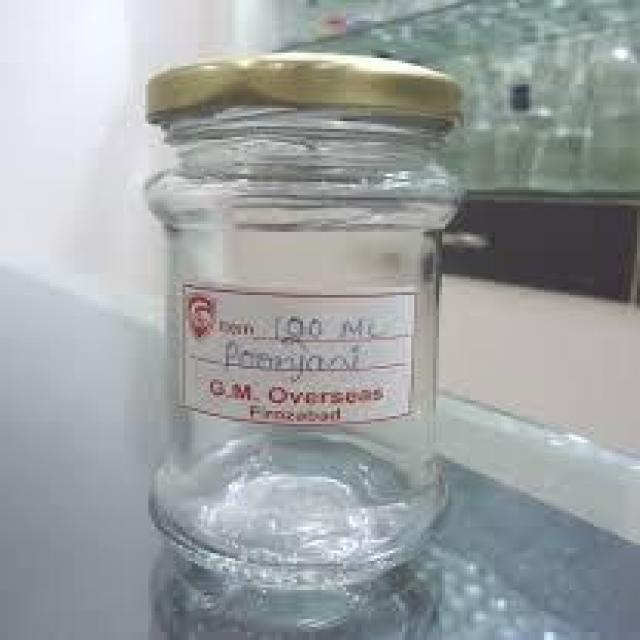glass: (136, 51, 470, 596)
